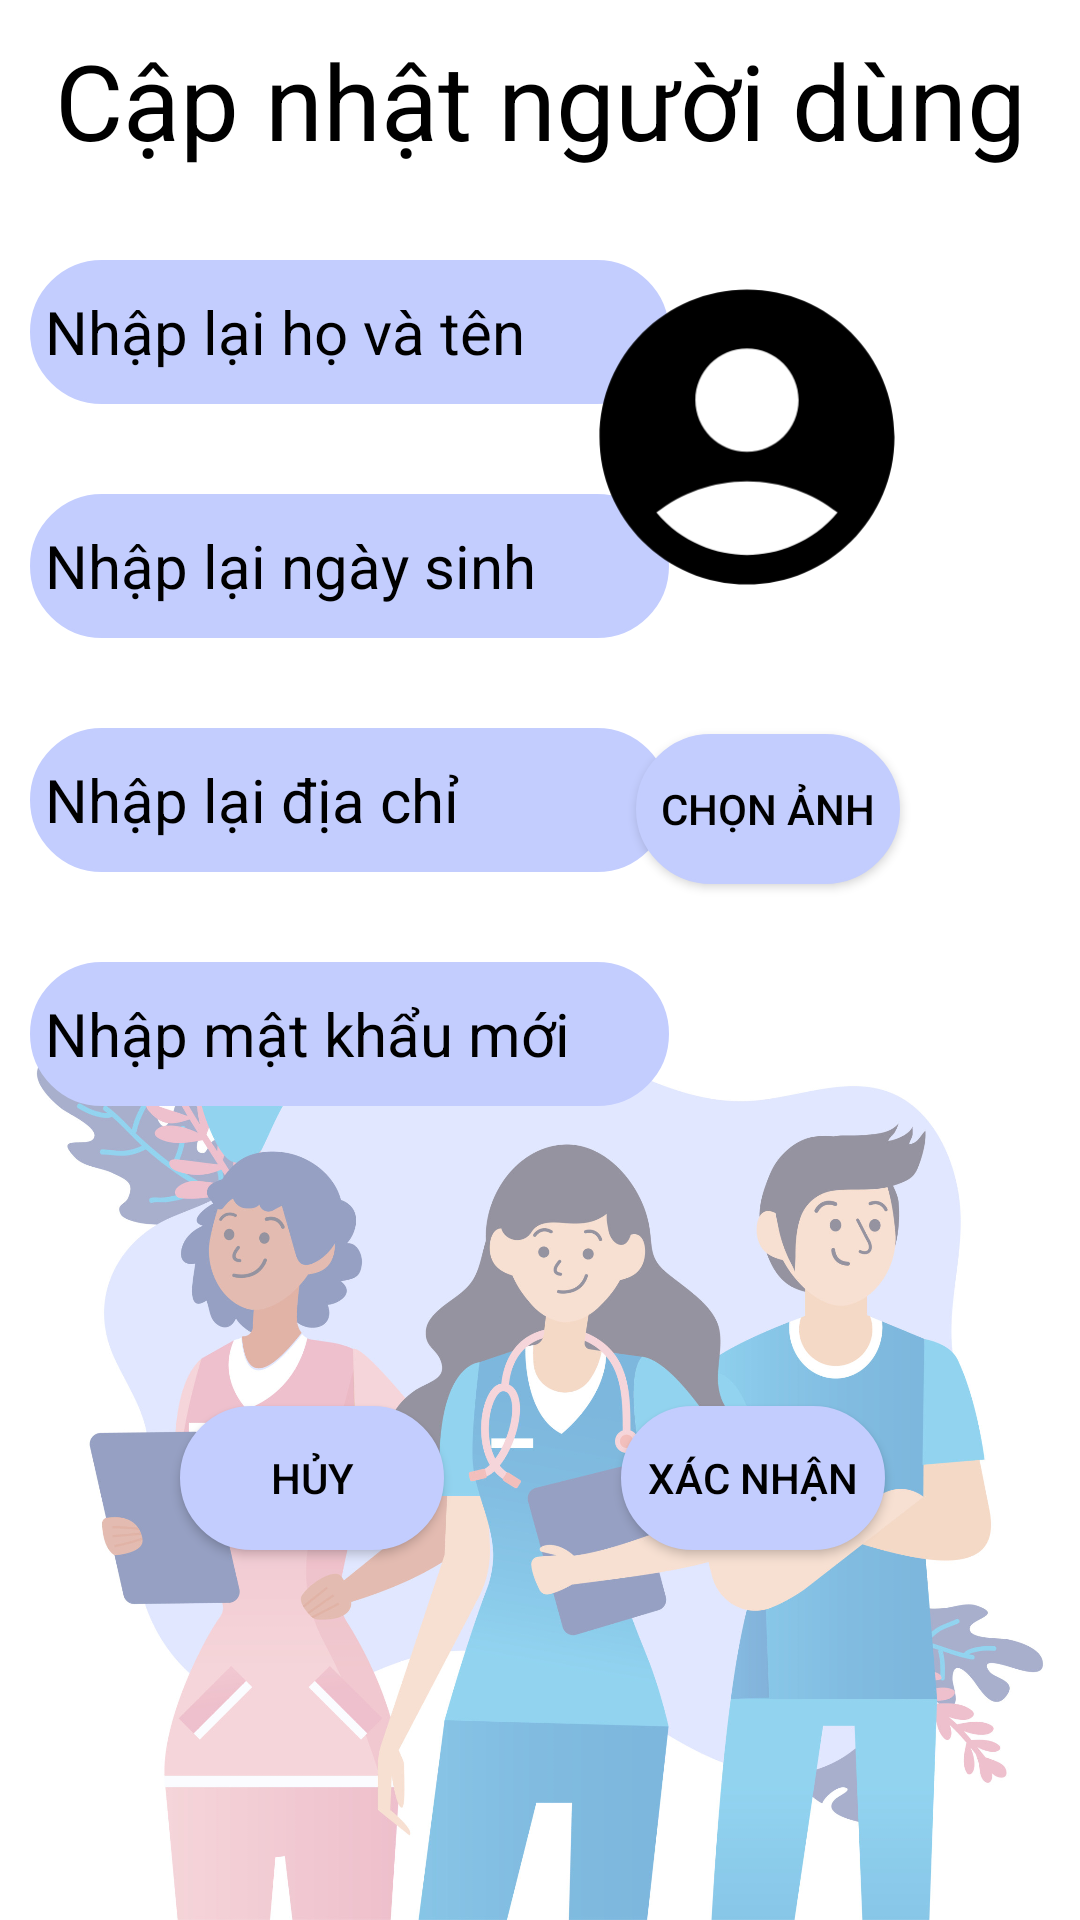

Point at icon controls on the screen. Image size 1080 x 1920, points as point (x, y).
account: point (729, 437)
